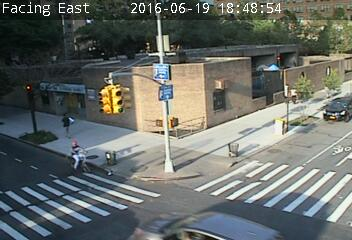neg: (57, 137, 94, 186), (151, 205, 171, 232), (180, 217, 195, 237)
pos: (54, 110, 77, 139), (286, 86, 302, 107)
